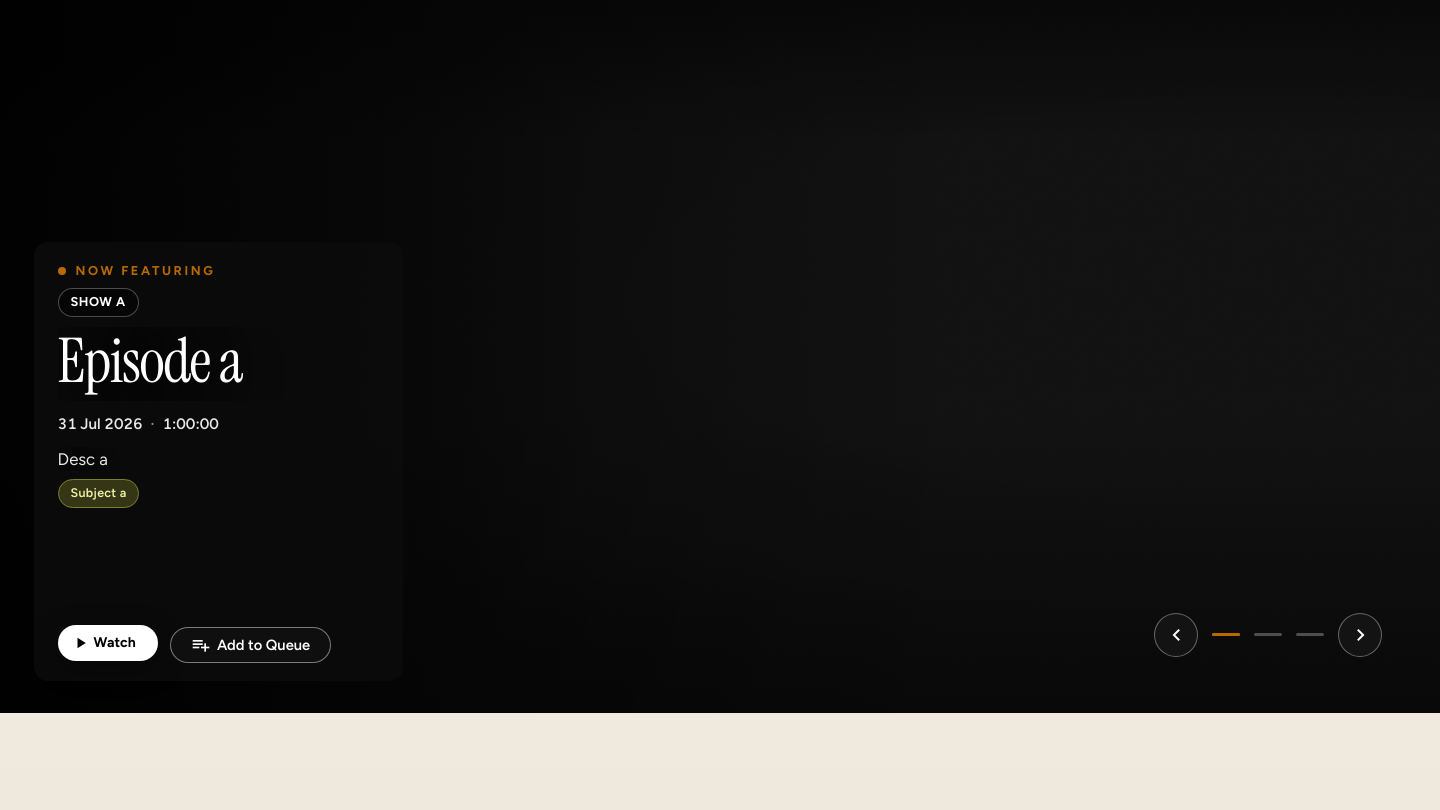
it: HomepageHeroComponent › HERO-QUE-001: Add to Queue replaces More info › toggles the featured episode in the player queue, like the episode page
Step 1. Click the button "Add to Queue" → (251, 645), box [170, 627, 331, 663]
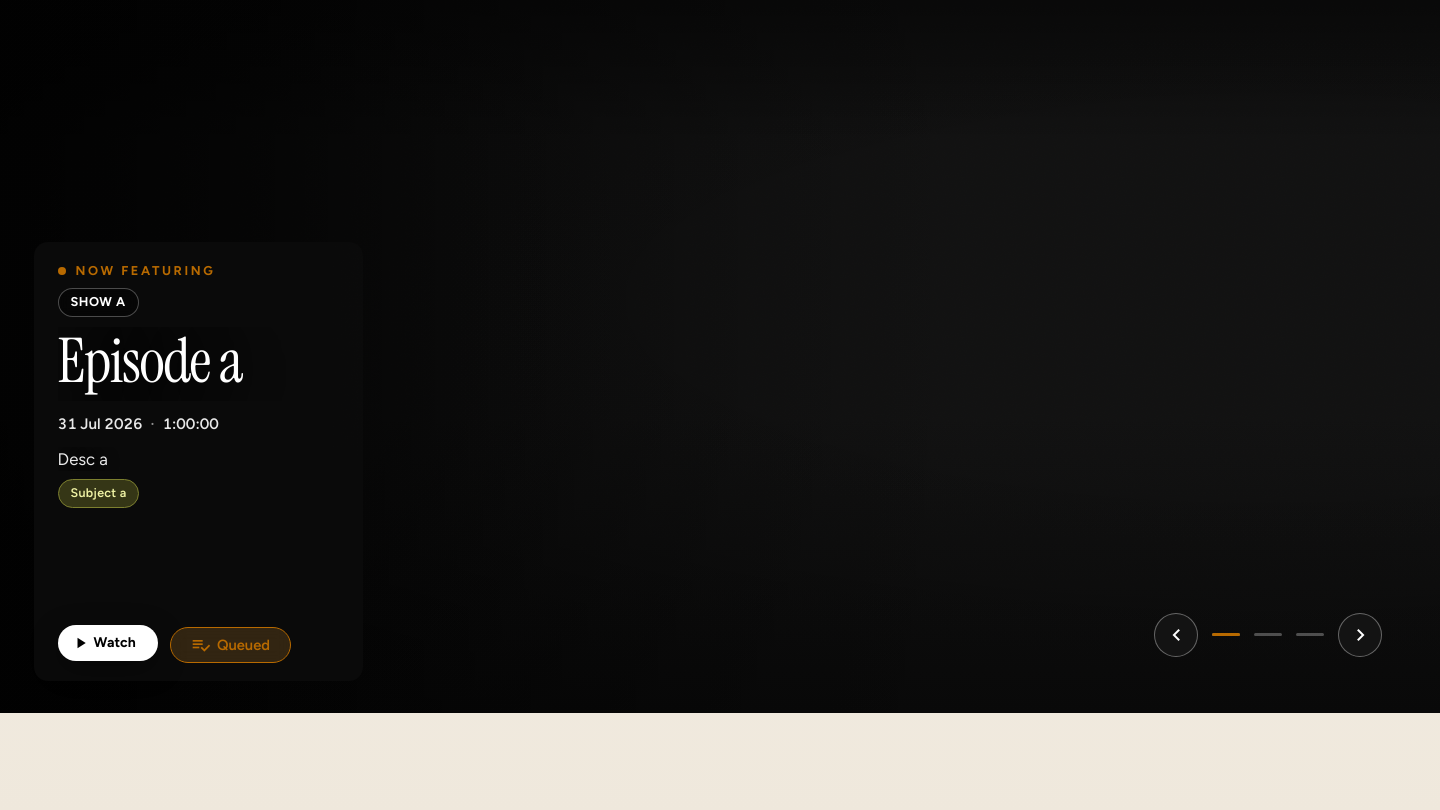
Now the button "Queued" is shown
Step 2. Click the button "Queued" → (230, 645), box [170, 627, 291, 663]
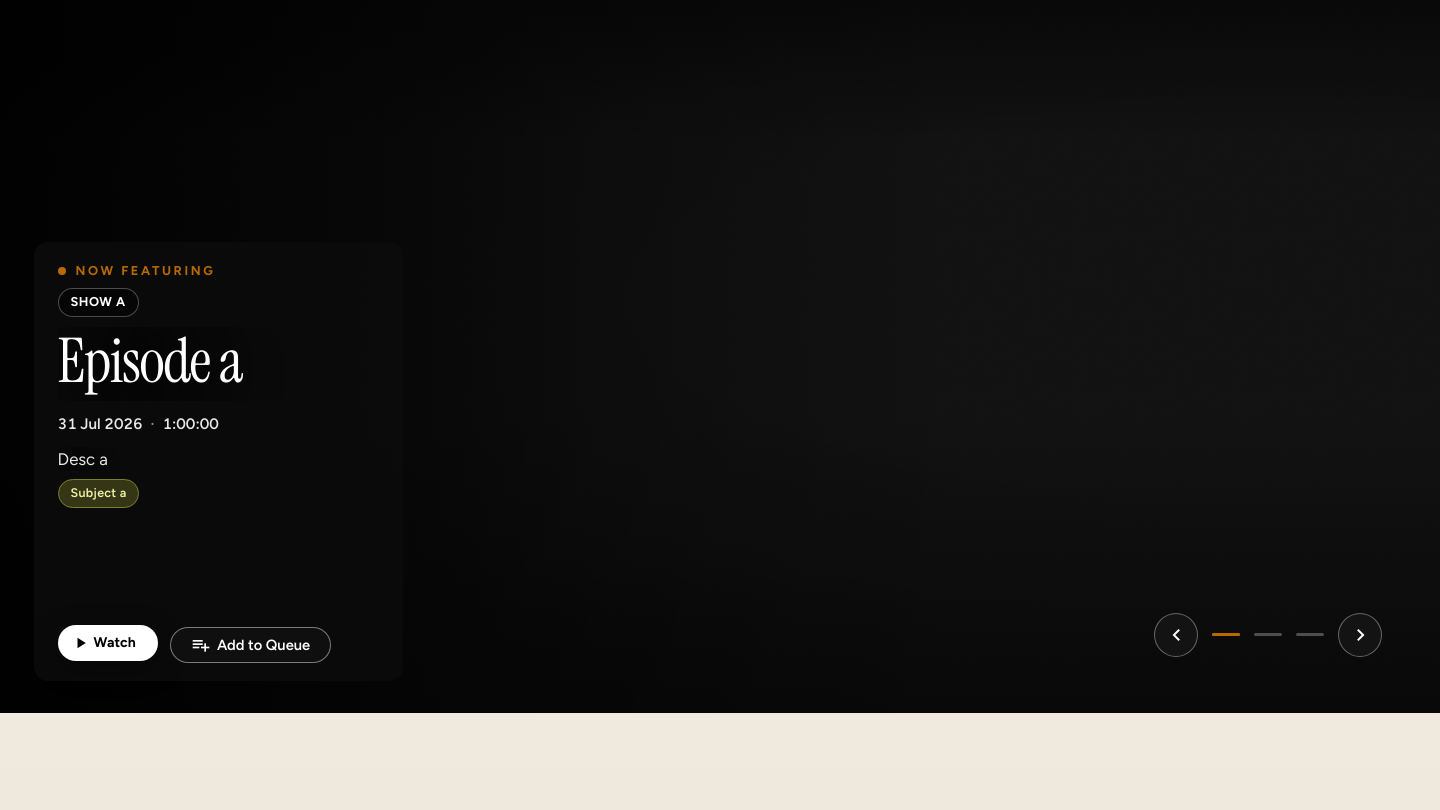
Now the button "Add to Queue" is shown, box [170, 627, 331, 663]
